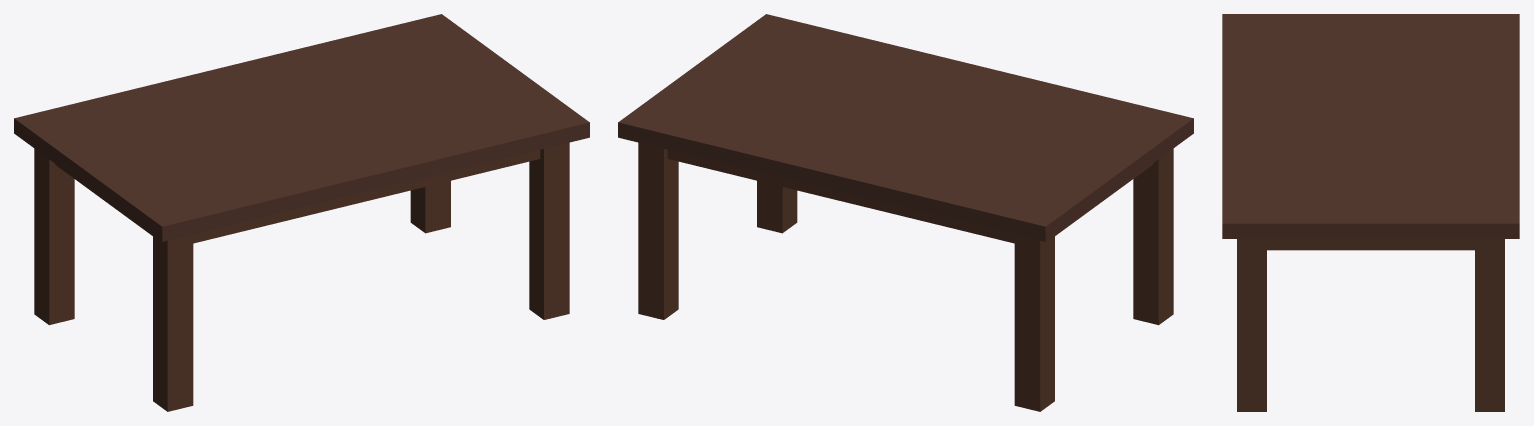
File: Table_1B.fbx
The picture shows the model from 3 angles, left to right: view 1: azimuth 30°, elevation 25°; view 2: azimuth 150°, elevation 25°; view 3: azimuth 270°, elevation 25°; orthographic projection.
Visible parts, largest first — view 1: polySurface1727; view 2: polySurface1727; view 3: polySurface1727.
Part boxes in pixels (x1,y1,x2,y2): polySurface1727: [14, 14, 589, 411]; polySurface1727: [618, 14, 1193, 411]; polySurface1727: [1222, 14, 1519, 411].
Bounding box in the file's own units: 2.5 × 1.08 × 1.5.
1 material, 1 textured.
